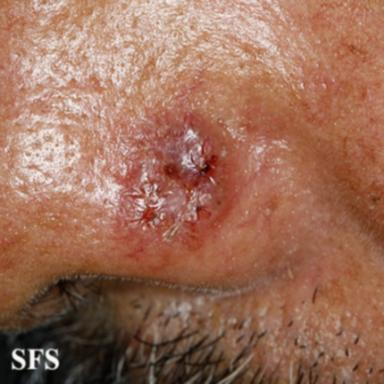basal-cell-carcinoma: (104, 106, 246, 270)
